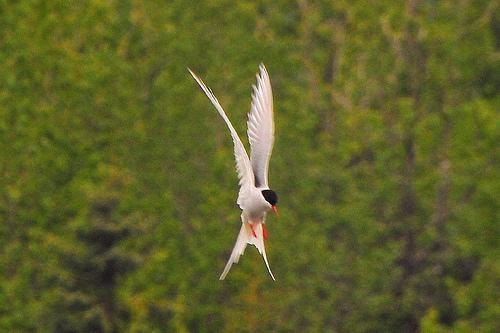bird: (185, 61, 285, 281)
